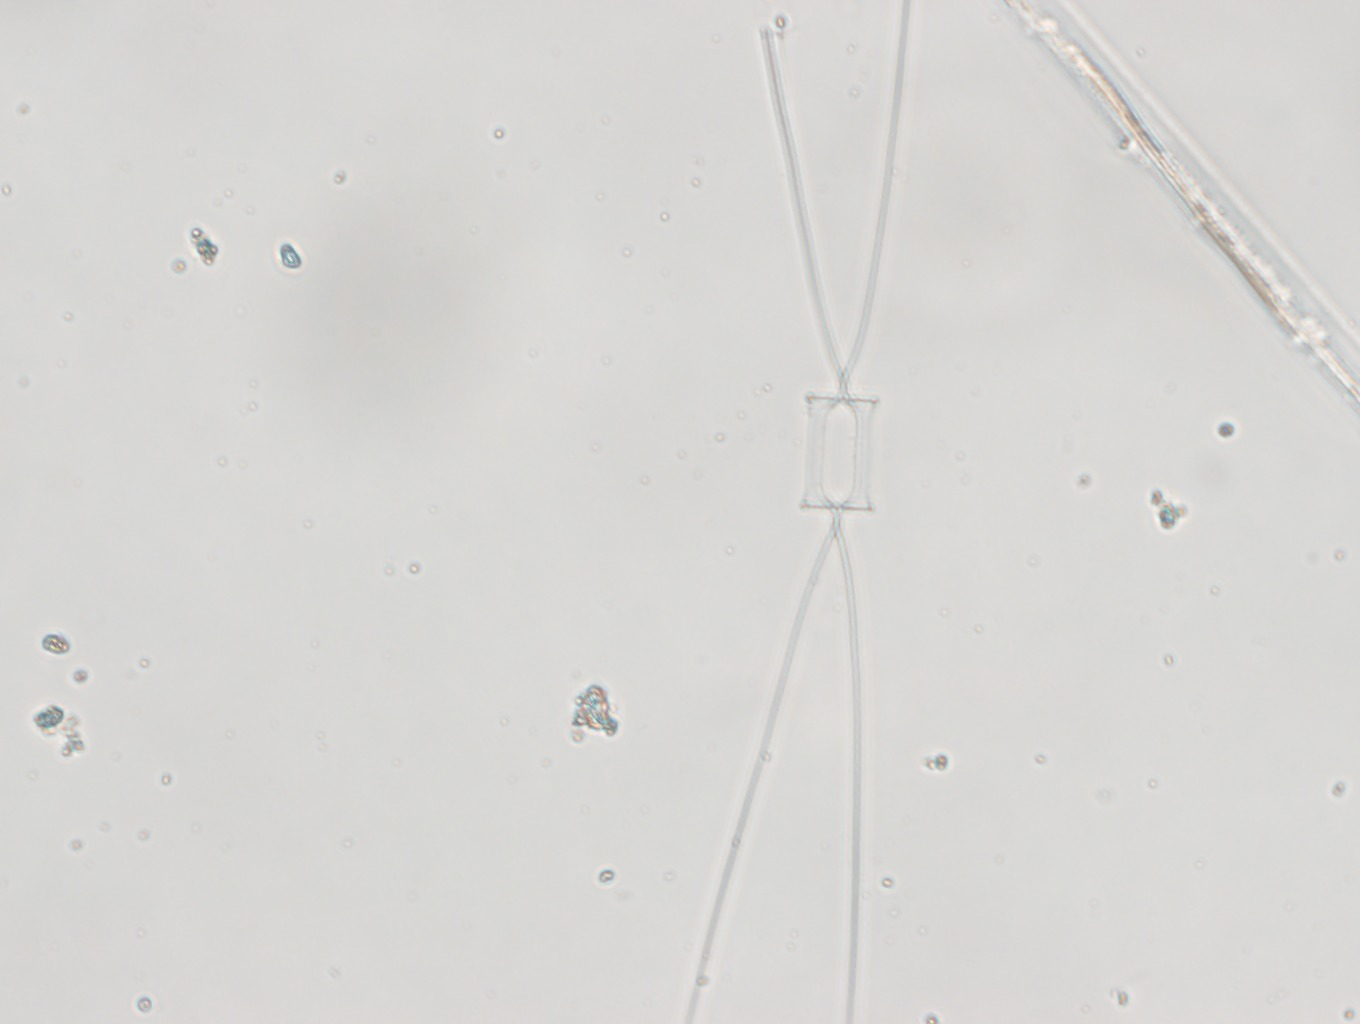chaetoceros: (676, 1, 912, 1021)
